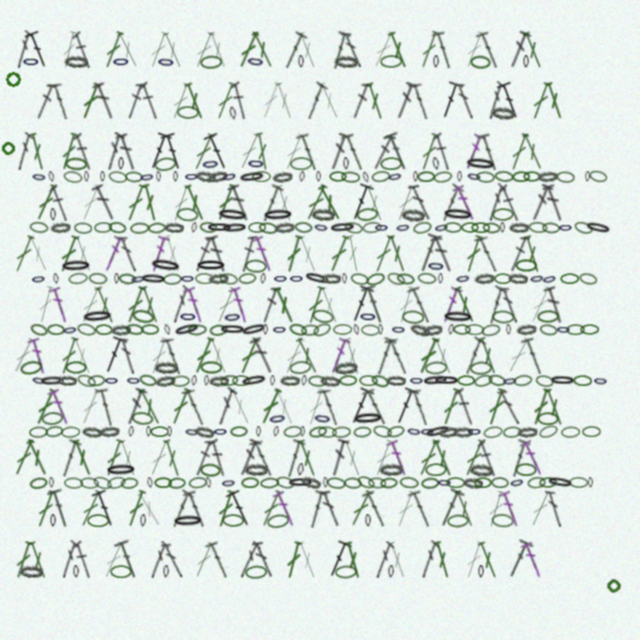chain: (149, 257, 182, 274), (464, 156, 497, 172), (216, 207, 249, 223), (81, 309, 114, 324), (442, 207, 474, 222), (352, 411, 384, 426), (303, 270, 331, 287), (173, 321, 201, 338), (240, 321, 268, 338), (424, 423, 452, 440), (262, 208, 294, 222), (584, 220, 612, 236), (60, 259, 92, 273), (442, 310, 474, 324), (105, 463, 137, 477), (172, 514, 204, 528), (240, 373, 268, 388), (546, 475, 574, 490), (195, 259, 227, 272), (131, 308, 155, 325), (311, 308, 335, 325), (19, 359, 43, 376), (333, 360, 358, 376), (238, 170, 266, 184), (266, 513, 290, 529), (154, 156, 177, 172), (538, 423, 559, 440), (409, 322, 431, 338), (329, 221, 356, 234), (422, 374, 449, 387), (176, 207, 199, 222), (356, 207, 379, 222), (289, 360, 312, 375), (41, 411, 64, 426), (131, 411, 154, 426), (491, 513, 514, 528), (312, 321, 332, 338), (356, 474, 376, 491), (491, 106, 515, 120), (401, 208, 425, 222), (573, 220, 594, 236), (365, 271, 386, 287), (76, 373, 97, 389), (469, 463, 493, 477), (92, 475, 113, 491), (300, 475, 322, 490), (221, 222, 248, 234), (140, 273, 167, 285), (39, 375, 66, 387), (386, 271, 406, 287), (29, 322, 49, 338), (370, 373, 390, 389), (207, 169, 228, 184), (412, 220, 433, 235), (76, 322, 97, 337), (473, 373, 494, 388), (372, 424, 393, 439), (106, 475, 127, 490), (64, 55, 88, 68), (334, 55, 358, 68), (311, 208, 335, 221), (154, 361, 178, 374), (244, 463, 268, 476), (379, 463, 403, 476), (19, 565, 43, 578), (200, 55, 222, 69), (65, 157, 87, 171), (245, 259, 267, 273), (402, 310, 424, 324), (492, 310, 514, 324), (425, 361, 447, 375), (470, 361, 492, 375), (447, 514, 469, 528), (245, 565, 267, 579), (335, 565, 357, 579), (588, 169, 608, 184), (288, 322, 308, 337), (138, 373, 158, 388), (487, 373, 507, 388), (386, 424, 406, 439), (275, 475, 295, 490), (206, 222, 233, 233), (219, 324, 246, 335), (433, 375, 460, 386), (549, 375, 576, 386), (287, 477, 314, 488), (470, 55, 491, 69), (272, 170, 293, 184), (422, 323, 443, 337), (155, 374, 176, 388), (194, 425, 215, 439), (438, 425, 459, 439), (200, 463, 221, 477), (380, 55, 402, 68), (177, 106, 199, 119), (290, 157, 312, 170), (380, 157, 402, 170), (492, 208, 514, 221), (515, 259, 537, 272), (537, 310, 559, 323), (65, 361, 87, 374), (200, 361, 222, 374), (537, 412, 559, 425), (425, 463, 447, 476), (515, 463, 537, 476), (87, 514, 109, 527), (222, 514, 244, 527), (110, 565, 132, 578), (246, 54, 265, 69), (268, 411, 287, 426), (313, 411, 332, 426), (63, 170, 83, 184), (108, 170, 128, 184), (433, 170, 453, 184), (258, 221, 278, 235), (578, 272, 598, 286), (481, 323, 501, 337), (308, 425, 328, 439), (483, 425, 503, 439), (326, 476, 346, 490), (195, 170, 216, 183), (537, 170, 558, 183), (50, 221, 71, 234), (274, 221, 295, 234), (208, 272, 229, 285), (474, 272, 495, 285), (516, 323, 537, 336), (99, 425, 120, 438), (201, 157, 220, 171), (344, 221, 363, 235), (219, 272, 238, 286), (350, 272, 369, 286), (396, 272, 415, 286), (223, 310, 242, 324), (539, 323, 558, 337), (535, 374, 554, 388), (29, 476, 48, 490), (371, 170, 391, 183), (494, 170, 514, 183), (29, 221, 49, 234), (362, 221, 382, 234), (528, 221, 548, 234), (68, 272, 88, 285), (88, 272, 108, 285), (417, 272, 437, 285), (513, 374, 533, 387), (283, 425, 303, 438), (188, 476, 208, 489), (399, 476, 419, 489), (157, 55, 175, 69), (427, 259, 445, 273), (517, 426, 538, 438), (108, 221, 127, 234), (199, 221, 218, 234), (294, 221, 313, 234), (238, 272, 257, 285), (125, 323, 144, 336), (87, 374, 106, 387), (220, 374, 239, 387), (45, 425, 64, 438), (527, 476, 546, 489), (111, 324, 131, 336), (187, 324, 207, 336), (209, 375, 229, 387), (320, 375, 340, 387), (82, 426, 102, 438), (453, 426, 473, 438), (463, 477, 483, 489), (541, 272, 558, 286), (22, 55, 40, 68), (112, 55, 130, 68), (247, 157, 265, 170), (179, 310, 197, 323), (359, 310, 377, 323), (341, 171, 360, 183), (476, 171, 495, 183), (556, 171, 575, 183), (130, 222, 149, 234), (482, 222, 501, 234), (118, 273, 137, 285), (163, 273, 182, 285), (209, 324, 228, 336), (361, 324, 380, 336), (171, 375, 190, 387), (308, 375, 327, 387), (29, 426, 48, 438), (61, 426, 80, 438), (318, 426, 337, 438), (332, 426, 351, 438), (353, 426, 372, 438), (561, 426, 580, 438), (64, 477, 83, 489), (80, 477, 99, 489), (120, 477, 139, 489), (260, 477, 279, 489), (221, 170, 238, 183), (433, 221, 450, 234), (164, 222, 184, 233), (509, 222, 529, 233), (321, 273, 341, 284), (508, 273, 528, 284), (57, 375, 77, 386), (280, 375, 300, 386), (386, 375, 406, 386), (125, 171, 143, 183), (74, 222, 92, 234), (148, 222, 166, 234), (542, 222, 560, 234), (301, 324, 319, 336), (503, 426, 521, 438), (168, 477, 186, 489), (344, 477, 362, 489), (368, 477, 386, 489), (380, 477, 398, 489), (421, 477, 439, 489), (252, 171, 271, 182), (471, 222, 490, 233), (195, 273, 214, 284), (560, 273, 579, 284), (333, 324, 352, 335), (465, 324, 484, 335), (566, 324, 585, 335), (580, 324, 599, 335), (359, 375, 378, 386), (573, 375, 592, 386), (150, 426, 169, 437), (582, 426, 601, 437), (446, 477, 465, 488), (569, 477, 588, 488), (387, 170, 403, 183), (466, 170, 482, 183), (313, 221, 329, 234), (395, 221, 411, 234), (455, 272, 471, 285), (529, 272, 545, 285), (31, 374, 47, 387), (406, 425, 422, 438), (509, 476, 525, 489), (329, 171, 347, 182), (417, 171, 435, 182), (512, 171, 530, 182), (523, 171, 541, 182), (94, 222, 112, 233), (248, 222, 266, 233), (444, 222, 462, 233), (461, 222, 479, 233), (494, 273, 512, 284), (47, 324, 65, 335), (95, 324, 113, 335), (141, 324, 159, 335), (453, 324, 471, 335), (232, 375, 250, 386), (339, 375, 357, 386), (457, 375, 475, 386), (230, 426, 248, 437), (154, 477, 172, 488), (241, 477, 259, 488), (474, 477, 492, 488), (491, 477, 509, 488), (539, 477, 557, 488), (31, 171, 47, 183), (139, 171, 155, 183), (130, 273, 146, 285), (62, 324, 78, 336), (502, 375, 518, 387), (184, 426, 200, 438), (31, 273, 46, 285), (593, 375, 608, 387), (221, 477, 236, 489), (184, 171, 199, 182), (374, 222, 389, 233), (558, 222, 573, 233), (180, 273, 195, 284), (273, 273, 288, 284), (289, 273, 304, 284), (272, 324, 287, 335), (391, 324, 406, 335), (556, 324, 571, 335), (104, 375, 119, 386), (126, 375, 141, 386), (409, 375, 424, 386), (213, 426, 228, 437), (420, 426, 435, 437), (467, 426, 482, 437), (437, 477, 452, 488), (229, 106, 237, 120), (432, 157, 440, 170), (362, 171, 370, 183), (297, 463, 304, 476), (298, 55, 304, 68), (433, 55, 439, 68), (523, 55, 529, 68), (118, 157, 124, 170), (343, 157, 349, 170), (50, 208, 56, 221), (50, 514, 56, 527), (140, 514, 146, 527), (365, 514, 371, 527), (73, 565, 79, 578), (163, 565, 169, 578), (388, 565, 394, 578), (478, 565, 484, 578), (48, 171, 55, 182), (164, 324, 171, 335), (353, 324, 360, 335), (205, 477, 212, 488), (299, 171, 305, 182), (191, 222, 197, 233), (53, 273, 59, 284), (260, 273, 266, 284), (448, 324, 454, 335), (191, 375, 197, 386), (301, 375, 307, 386), (128, 426, 134, 437), (273, 426, 279, 437), (147, 477, 153, 488), (84, 171, 89, 182), (100, 171, 105, 182), (156, 171, 161, 182), (173, 171, 178, 182), (316, 171, 321, 182), (413, 171, 418, 182), (457, 171, 462, 182), (585, 171, 590, 182), (500, 222, 505, 233), (114, 273, 119, 284), (342, 273, 347, 284), (438, 273, 443, 284), (263, 324, 268, 335), (378, 324, 383, 335), (506, 324, 511, 335), (204, 375, 209, 386), (270, 375, 275, 386), (146, 426, 151, 437), (167, 426, 172, 437), (256, 426, 261, 437), (300, 426, 305, 437), (49, 477, 54, 488), (323, 477, 328, 488), (588, 477, 593, 488)
double: (225, 488, 255, 529), (504, 539, 534, 580), (203, 131, 232, 172), (383, 131, 412, 172), (346, 386, 375, 427), (391, 386, 420, 427), (436, 488, 465, 529), (324, 539, 353, 580), (279, 30, 308, 70), (24, 29, 52, 70), (496, 80, 524, 121), (145, 131, 173, 172), (347, 182, 375, 223), (415, 233, 443, 274), (347, 284, 375, 325), (100, 335, 128, 376), (91, 488, 119, 529), (114, 539, 142, 580), (504, 336, 533, 375), (437, 183, 465, 223), (361, 387, 389, 427), (167, 489, 195, 529), (437, 80, 464, 121), (361, 284, 388, 325), (135, 490, 164, 528), (114, 30, 142, 69), (249, 30, 277, 69), (91, 183, 119, 222), (302, 183, 330, 222), (316, 183, 344, 222), (249, 336, 277, 375), (136, 387, 164, 426), (347, 489, 375, 528), (235, 30, 262, 70), (302, 81, 329, 121), (190, 132, 217, 172), (257, 183, 284, 223), (474, 234, 501, 274), (77, 285, 104, 325), (271, 285, 298, 325), (406, 285, 433, 325), (384, 336, 411, 376), (415, 336, 442, 376), (460, 336, 487, 376), (32, 387, 59, 427), (181, 387, 208, 427), (249, 438, 276, 478), (415, 438, 442, 478), (361, 489, 388, 529), (100, 540, 127, 580), (204, 540, 231, 580), (160, 131, 186, 172), (47, 488, 73, 529), (370, 30, 397, 69), (316, 81, 343, 120), (527, 285, 554, 324), (10, 336, 37, 375), (294, 336, 321, 375), (257, 387, 284, 426), (24, 438, 51, 477), (519, 438, 546, 477), (77, 489, 104, 528), (527, 489, 554, 528), (160, 30, 186, 70), (191, 30, 217, 70), (385, 30, 411, 70), (475, 30, 501, 70), (506, 30, 532, 70), (520, 30, 546, 70), (92, 81, 118, 121), (281, 132, 307, 172), (340, 132, 366, 172), (227, 183, 253, 223), (528, 183, 554, 223), (11, 234, 37, 274), (295, 234, 321, 274), (326, 234, 352, 274), (430, 234, 456, 274), (92, 285, 118, 325), (213, 285, 239, 325), (236, 336, 262, 376), (281, 336, 307, 376), (371, 336, 397, 376), (430, 336, 456, 376), (56, 438, 82, 478), (146, 438, 172, 478), (236, 438, 262, 478), (430, 438, 456, 478), (461, 438, 487, 478), (182, 489, 208, 529), (407, 489, 433, 529), (191, 540, 217, 580), (475, 540, 501, 580), (236, 132, 262, 171), (520, 132, 546, 171), (33, 183, 59, 222), (182, 183, 208, 222), (452, 183, 478, 222), (25, 234, 51, 273), (452, 285, 478, 324), (227, 387, 253, 426), (11, 438, 37, 477), (258, 489, 284, 528), (272, 489, 298, 528), (101, 30, 126, 70), (146, 30, 171, 70), (295, 30, 320, 70), (78, 81, 103, 121), (168, 81, 193, 121), (182, 81, 207, 121), (213, 81, 238, 121), (393, 81, 418, 121), (528, 81, 553, 121), (115, 132, 140, 172), (295, 132, 320, 172), (123, 183, 148, 223), (362, 183, 387, 223), (393, 183, 418, 223), (542, 183, 567, 223), (56, 234, 81, 274), (371, 234, 396, 274), (123, 285, 148, 325), (317, 285, 342, 325), (70, 336, 95, 376), (160, 336, 185, 376), (520, 336, 545, 376), (123, 387, 148, 427), (317, 387, 342, 427), (407, 387, 432, 427), (542, 387, 567, 427), (281, 438, 306, 478), (295, 438, 320, 478), (340, 438, 365, 478), (371, 438, 396, 478), (506, 438, 531, 478), (33, 489, 58, 529), (393, 489, 418, 529), (295, 540, 320, 580), (236, 541, 262, 579), (78, 183, 103, 222), (101, 234, 126, 273), (191, 336, 216, 375), (47, 387, 72, 426), (78, 387, 103, 426), (168, 387, 193, 426), (213, 387, 238, 426), (272, 387, 297, 426), (70, 438, 95, 477), (452, 489, 477, 528), (520, 540, 545, 579), (327, 30, 351, 70), (48, 81, 72, 121), (363, 81, 387, 121), (408, 81, 432, 121), (327, 132, 351, 172), (417, 132, 441, 172), (476, 132, 500, 172), (507, 132, 531, 172), (169, 183, 193, 223), (206, 234, 230, 274), (484, 285, 508, 325), (543, 285, 567, 325), (57, 336, 81, 376), (147, 336, 171, 376), (304, 387, 328, 427), (439, 387, 463, 427), (484, 387, 508, 427), (529, 387, 553, 427), (102, 438, 126, 478), (116, 438, 140, 478), (304, 489, 328, 529), (26, 540, 50, 580), (462, 540, 486, 580), (371, 133, 396, 171), (497, 388, 522, 426), (206, 30, 230, 69), (417, 30, 441, 69), (462, 30, 486, 69), (259, 81, 283, 120), (462, 132, 486, 171), (214, 183, 238, 222), (408, 183, 432, 222), (71, 234, 95, 273), (251, 234, 275, 273), (138, 285, 162, 324), (439, 285, 463, 324), (206, 336, 230, 375), (327, 336, 351, 375), (476, 336, 500, 375), (386, 438, 410, 477), (124, 489, 148, 528), (498, 489, 522, 528), (431, 30, 454, 70), (273, 183, 296, 223), (462, 234, 485, 274), (521, 234, 544, 274), (304, 285, 327, 325), (341, 336, 364, 376), (161, 438, 184, 478), (214, 489, 237, 529), (12, 540, 35, 580), (498, 184, 522, 222), (161, 541, 185, 579), (341, 30, 364, 69), (138, 81, 161, 120), (273, 81, 296, 120), (543, 81, 566, 120), (102, 132, 125, 171), (386, 234, 409, 273), (48, 285, 71, 324), (169, 285, 192, 324), (183, 285, 206, 324), (228, 285, 251, 324), (386, 540, 409, 579), (283, 234, 305, 274), (395, 285, 417, 325), (94, 387, 116, 427), (328, 438, 350, 478), (485, 489, 507, 529), (342, 540, 364, 580), (71, 31, 94, 69), (34, 82, 57, 120), (48, 184, 71, 222), (476, 439, 499, 477), (147, 541, 170, 579), (372, 541, 395, 579), (350, 81, 372, 120), (454, 81, 476, 120), (58, 132, 80, 171), (72, 132, 94, 171), (485, 183, 507, 222), (117, 234, 139, 273), (148, 234, 170, 273), (162, 234, 184, 273), (193, 234, 215, 273), (508, 234, 530, 273), (27, 336, 49, 375), (454, 387, 476, 426), (193, 438, 215, 477), (319, 489, 341, 528), (58, 540, 80, 579), (72, 540, 94, 579), (252, 540, 274, 579), (418, 540, 440, 579), (283, 540, 304, 580), (13, 30, 34, 69), (125, 81, 146, 120), (485, 81, 506, 120), (27, 132, 48, 171), (432, 132, 453, 171), (35, 285, 56, 324), (260, 285, 281, 324), (499, 285, 520, 324), (432, 540, 453, 579), (59, 30, 79, 69), (14, 132, 34, 171), (140, 183, 160, 222), (208, 438, 228, 477), (230, 81, 249, 120), (253, 132, 272, 171), (239, 234, 258, 273), (118, 336, 137, 375), (545, 489, 564, 528), (344, 234, 362, 273)
noise: (4, 70, 23, 89), (605, 577, 622, 594), (0, 140, 16, 156)
